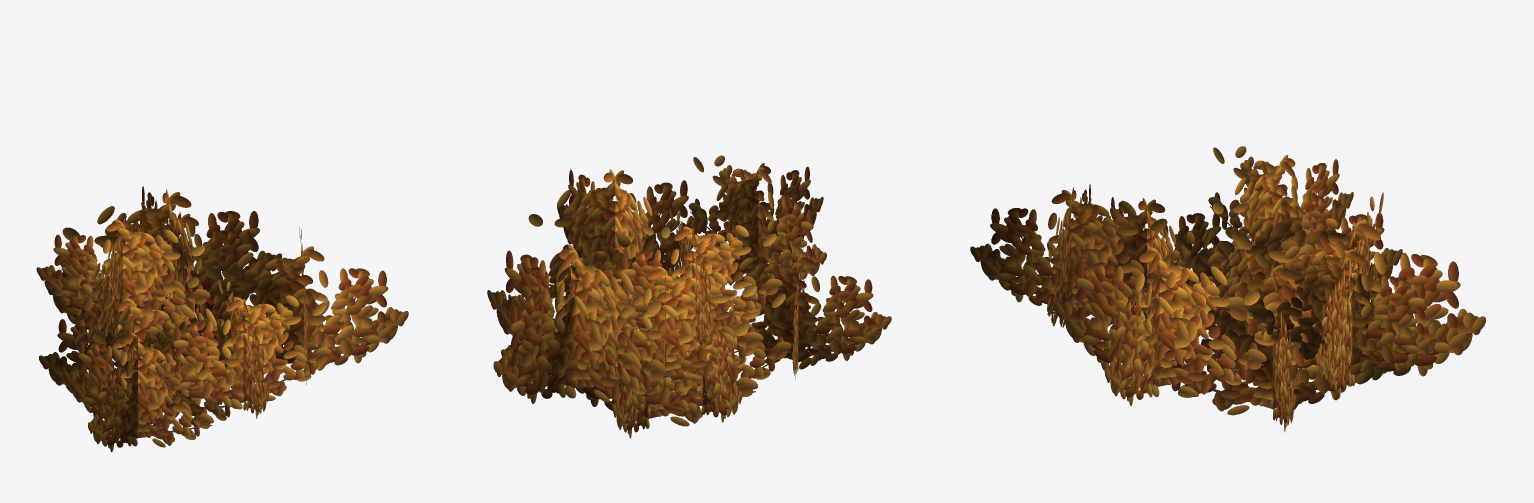
File: bush0_autumn.fbx
3 views of the same model, side by side, from view 1: azimuth 30°, elevation 25°; view 2: azimuth 150°, elevation 25°; view 3: azimuth 270°, elevation 25° (orthographic). The views are drawn at different scales.
Visible parts, largest first — view 1: bush0_autumn; view 2: bush0_autumn; view 3: bush0_autumn.
Part boxes in pixels (<box>): bush0_autumn: <box>36,186,408,452</box>; bush0_autumn: <box>487,155,891,438</box>; bush0_autumn: <box>970,146,1485,431</box>.
Size of the model in its own units: 1.66 by 1.39 by 2.02.
Materials: 1 (1 with a texture image).
